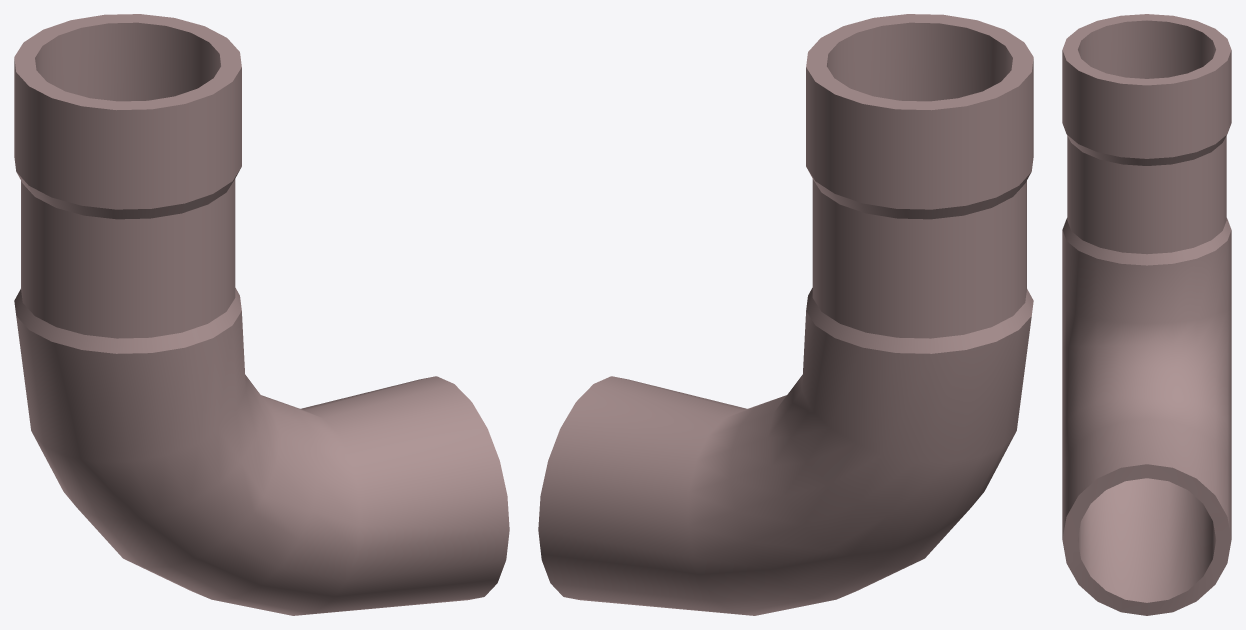
3 views of the same model, side by side, from view 1: azimuth 30°, elevation 25°; view 2: azimuth 150°, elevation 25°; view 3: azimuth 270°, elevation 25° (orthographic). The views are drawn at different scales.
Visible parts, largest first — view 1: Tube_1; view 2: Tube_1; view 3: Tube_1.
Boxes of the visible parts, x1,y1,x2,y2 form: Tube_1: (14, 14, 509, 615); Tube_1: (538, 14, 1033, 615); Tube_1: (1062, 14, 1231, 615).
Size of the model in its own units: 824 by 1126 by 383.
